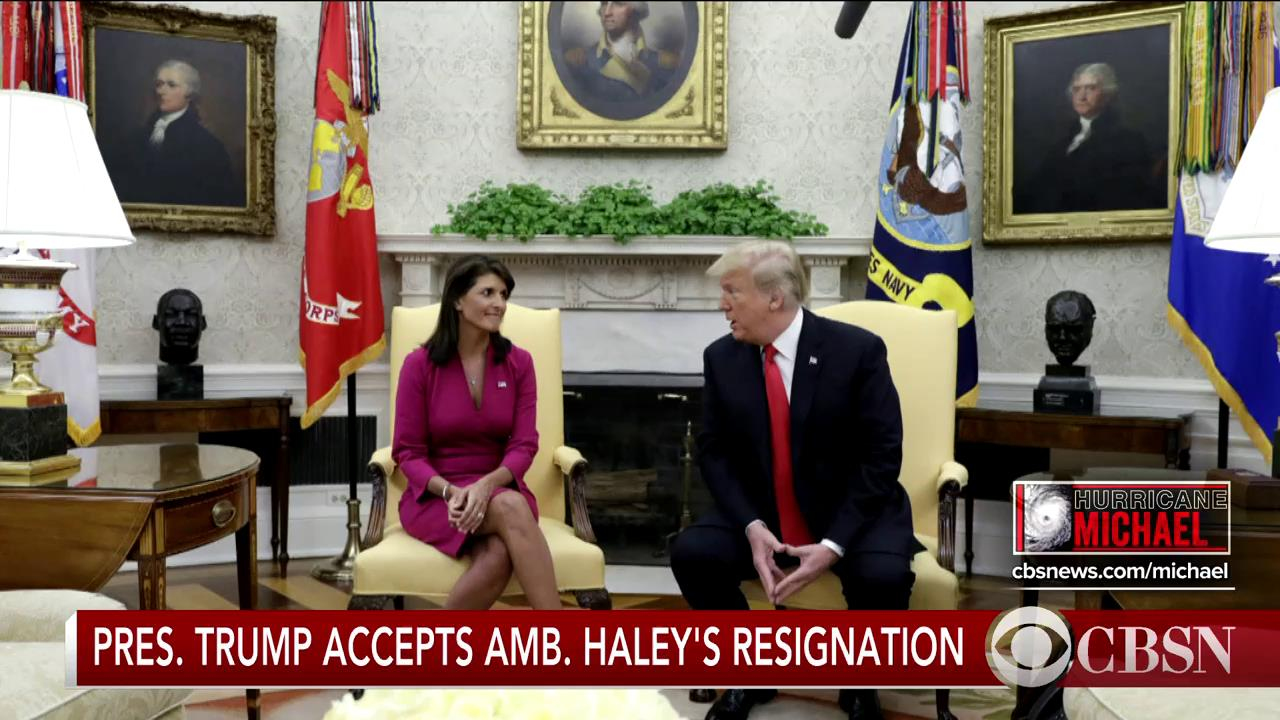CBSN: (1077, 623, 1238, 677)
HURRICANE: (1070, 484, 1225, 509)
MICHAEL: (1070, 509, 1208, 547)
NAVY: (879, 267, 917, 301)
PRES. TRUMP ACCEPTS AMB. HALEY'S RESIGNATION: (88, 620, 967, 670)
RP: (308, 301, 335, 324)
Y: (67, 310, 89, 334)
cbsnews.com/michael: (1010, 561, 1229, 583)
